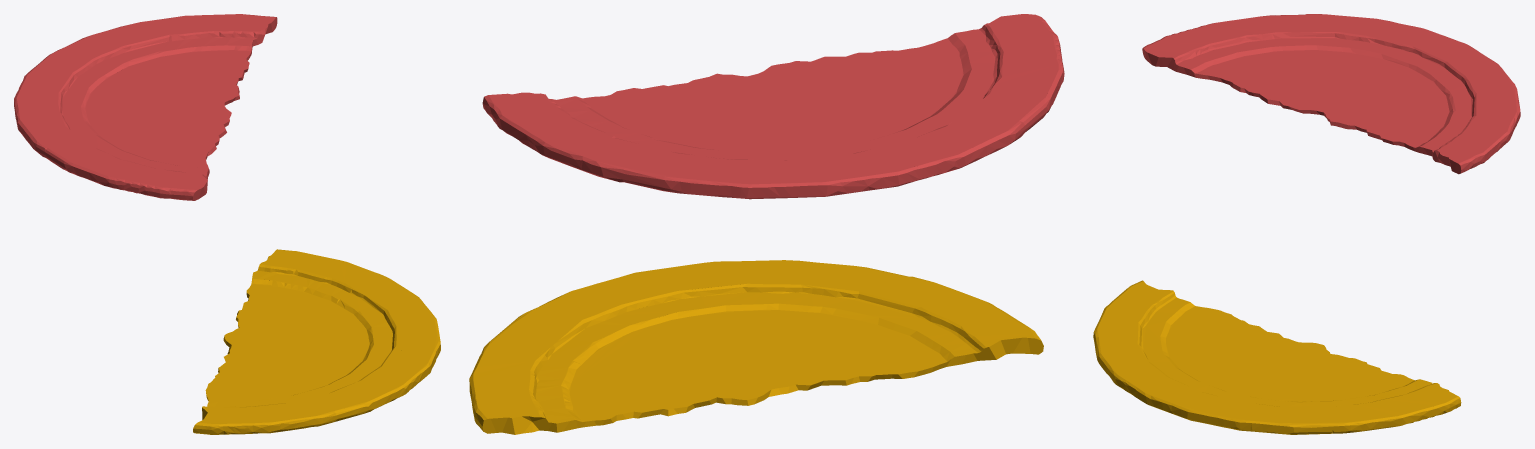
File: mode_1_2pcs_transformed.glb
3 views of the same model, side by side, from view 1: azimuth 30°, elevation 25°; view 2: azimuth 150°, elevation 25°; view 3: azimuth 270°, elevation 25° (orthographic). The views are drawn at different scales.
Visible parts, largest first — view 1: piece_1.obj, piece_0.obj; view 2: piece_0.obj, piece_1.obj; view 3: piece_1.obj, piece_0.obj.
Part boxes in pixels (bbox=[...]): piece_1.obj: bbox=[14, 14, 277, 200]; piece_0.obj: bbox=[193, 249, 440, 434]; piece_0.obj: bbox=[469, 260, 1043, 434]; piece_1.obj: bbox=[482, 14, 1064, 199]; piece_1.obj: bbox=[1142, 14, 1520, 174]; piece_0.obj: bbox=[1093, 280, 1461, 434].
Size of the model in its own units: 1 by 0.6276 by 0.9998.
